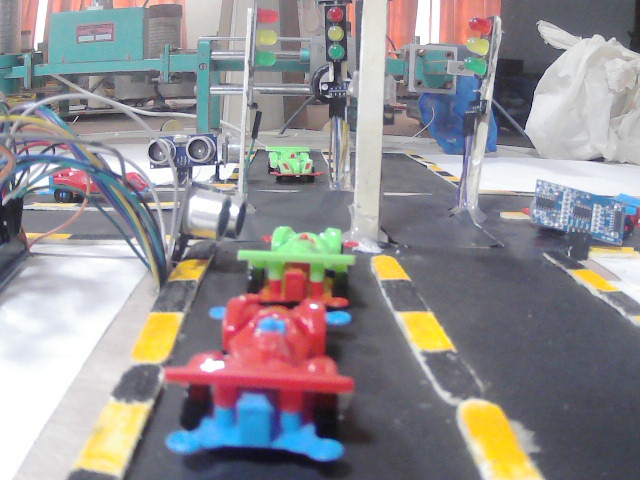car: (206, 290, 372, 475), (257, 223, 368, 292), (52, 152, 156, 210), (260, 140, 319, 192), (598, 190, 640, 238)
uno_breadboard: (521, 173, 630, 257), (0, 146, 43, 299), (178, 180, 246, 251), (149, 128, 222, 170), (221, 136, 247, 178)
